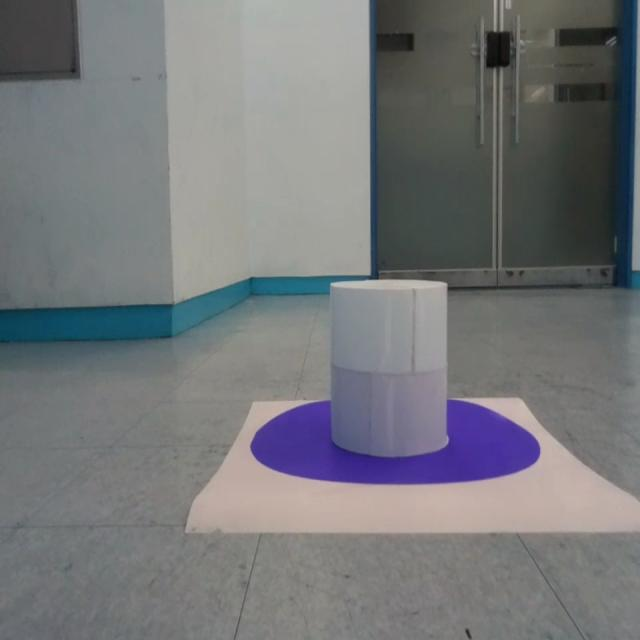cylinder: (330, 280, 450, 458)
